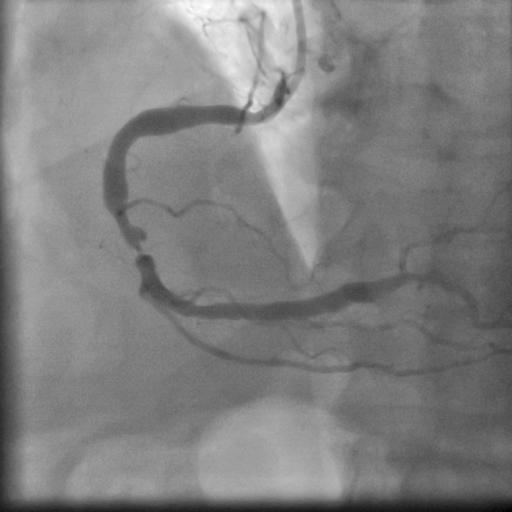Stenosis: (109, 219, 154, 267)
